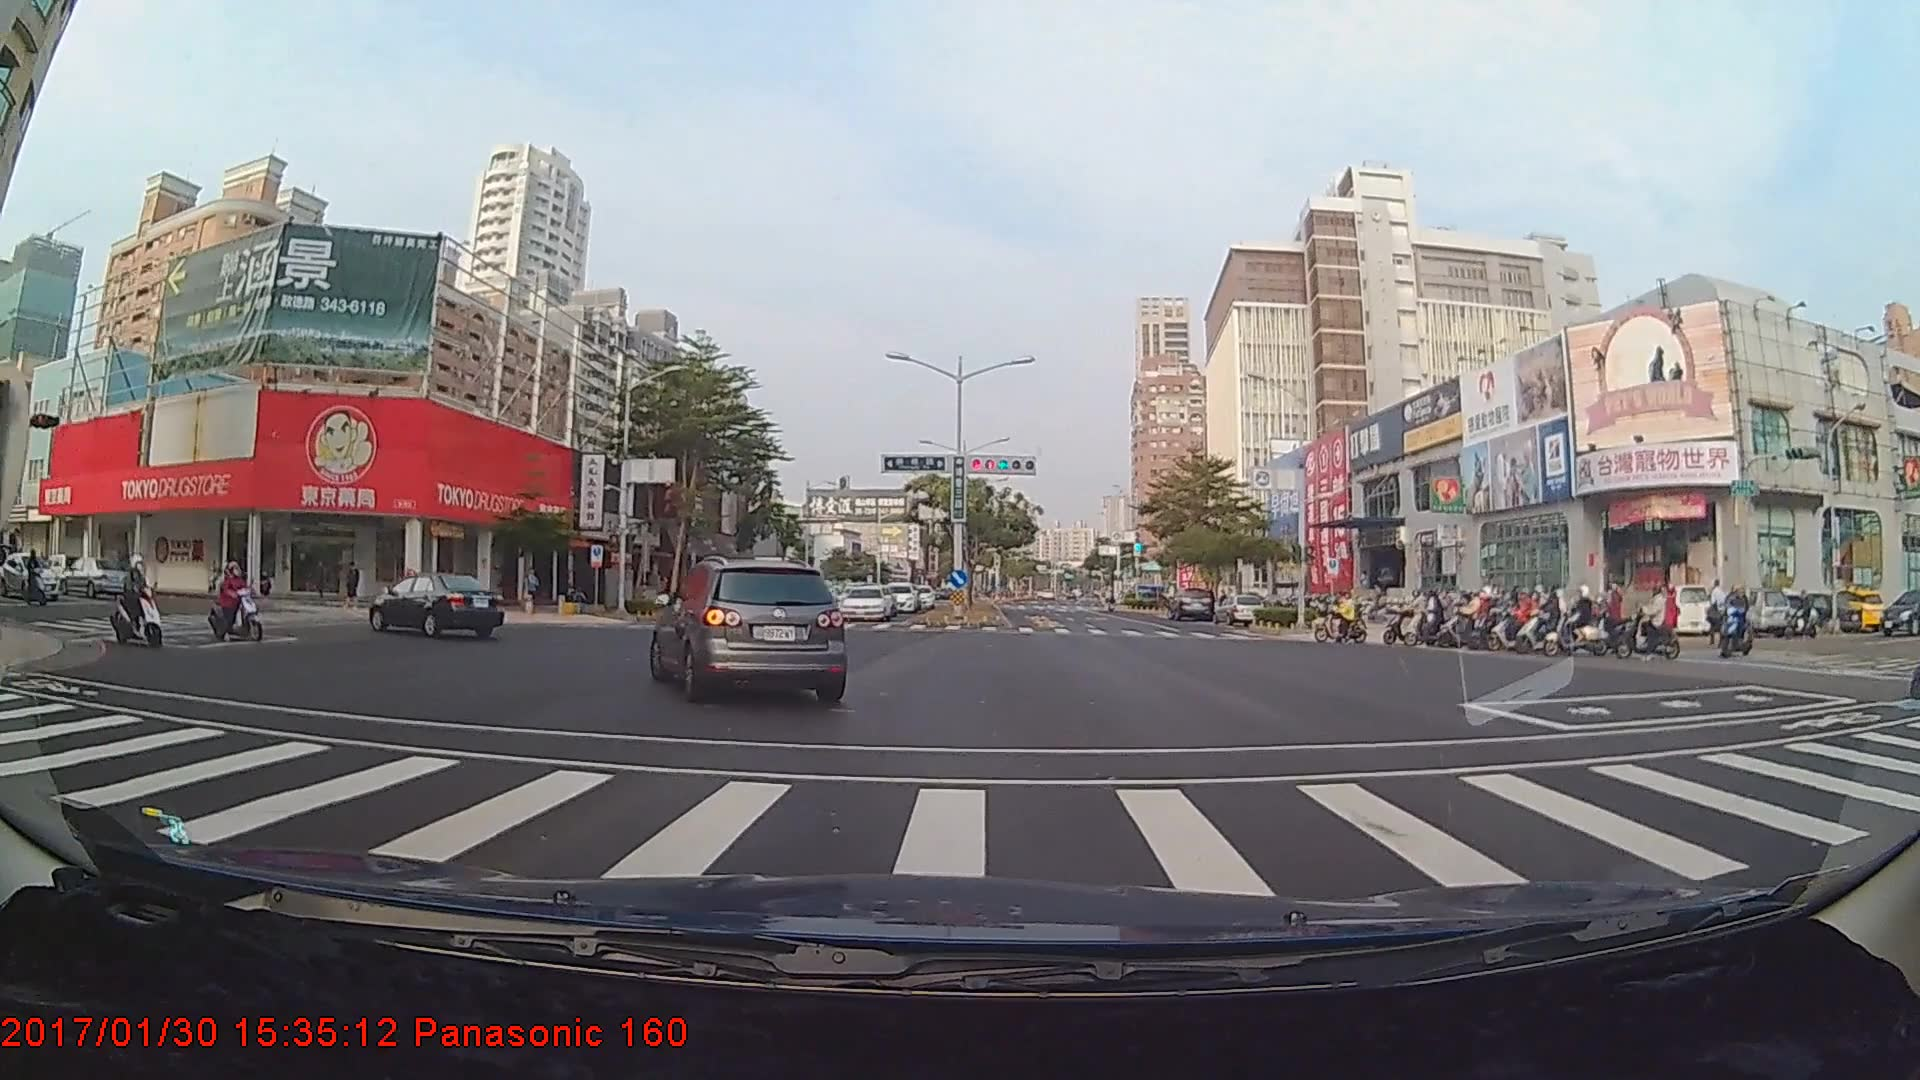rider: (1611, 578, 1681, 666), (205, 566, 268, 643), (1538, 586, 1603, 657), (1512, 588, 1574, 651), (1379, 591, 1446, 647), (1309, 585, 1367, 642), (1427, 589, 1482, 646), (1716, 590, 1758, 663)
vehicle: (649, 551, 850, 704), (369, 572, 505, 641), (54, 555, 133, 598), (0, 552, 62, 601), (837, 583, 894, 622), (1167, 586, 1212, 622), (880, 581, 920, 614)
